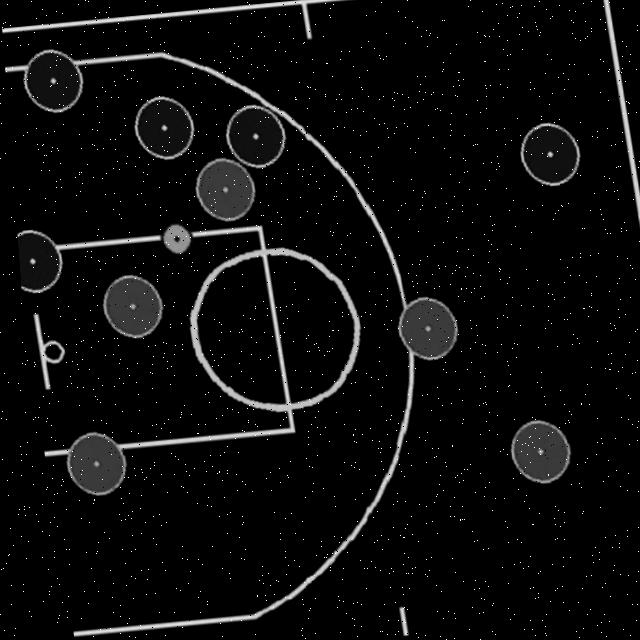Basketball: (156, 222, 189, 255)
Team_A: (21, 48, 81, 112), (132, 95, 192, 159), (517, 122, 577, 186), (223, 104, 283, 167), (14, 228, 57, 292)
Team_B: (392, 295, 452, 360), (97, 274, 158, 337), (503, 419, 563, 483), (59, 430, 118, 495), (192, 157, 251, 220)
